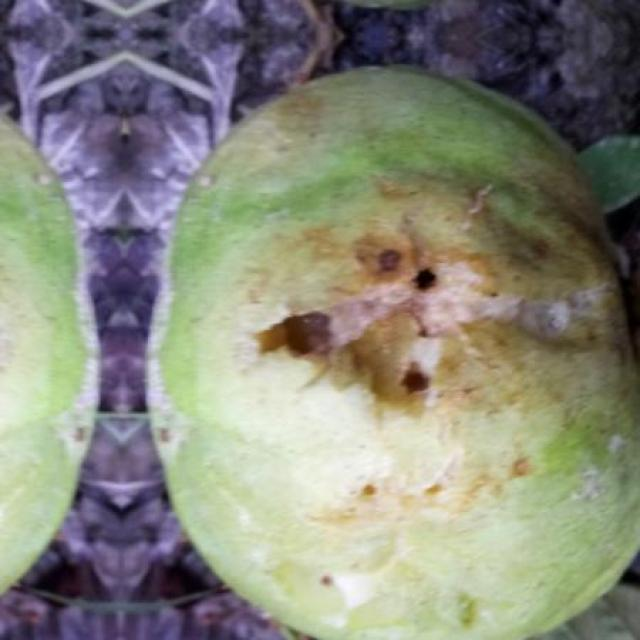Styler and Root: (205, 120, 638, 490)
